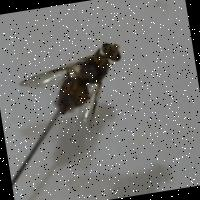Oriental-fruit-fly: (15, 34, 149, 142)
